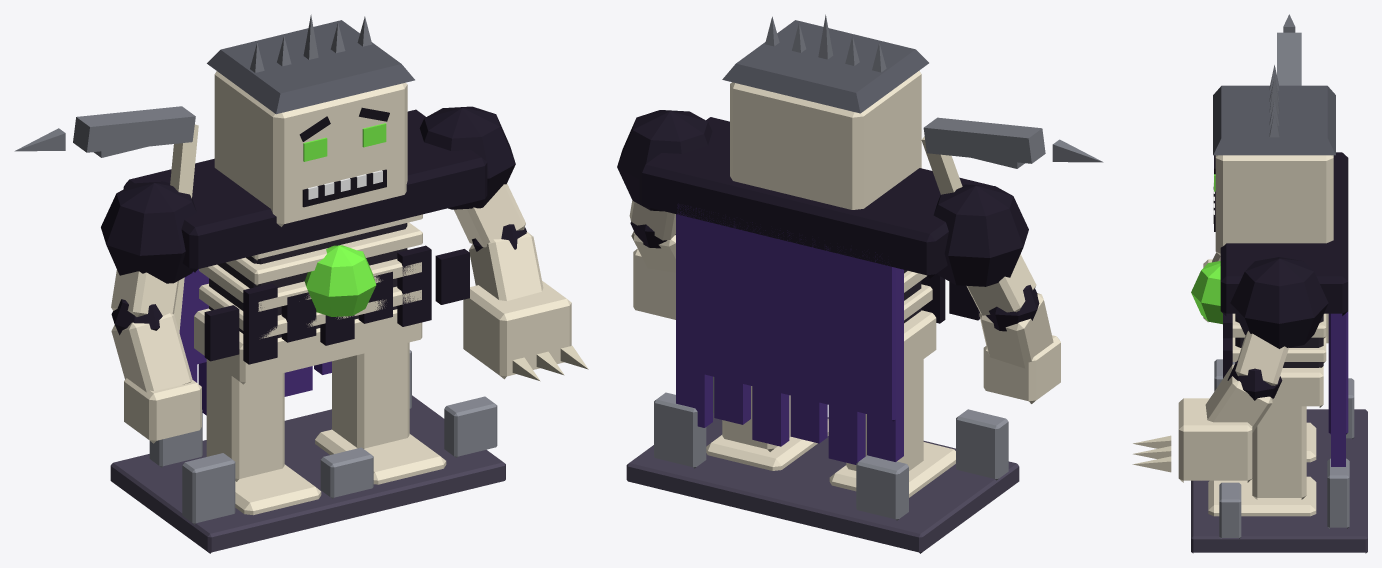
Rendered from r4_boss_bone_reaper.glb.
3 renders of one model, left to right at view 1: azimuth 30°, elevation 25°; view 2: azimuth 150°, elevation 25°; view 3: azimuth 270°, elevation 25°, orthographic. The views are drawn at different scales.
Parts seen in each view (by area): view 1: r4_boss_bone_reaper_mesh; view 2: r4_boss_bone_reaper_mesh; view 3: r4_boss_bone_reaper_mesh.
Boxes of the visible parts, x1,y1,x2,y2 form: r4_boss_bone_reaper_mesh: (14,14,588,553); r4_boss_bone_reaper_mesh: (617,14,1103,553); r4_boss_bone_reaper_mesh: (1132,14,1367,553).
Bounding box in the file's own units: 8.86 × 8 × 4.11.
Materials: 1 (1 with a texture image).
